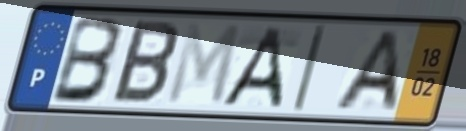A: (329, 29, 401, 115), (217, 24, 285, 111)
B: (48, 14, 126, 106), (107, 17, 181, 108)
I: (288, 22, 330, 115)
M: (163, 20, 245, 109)
